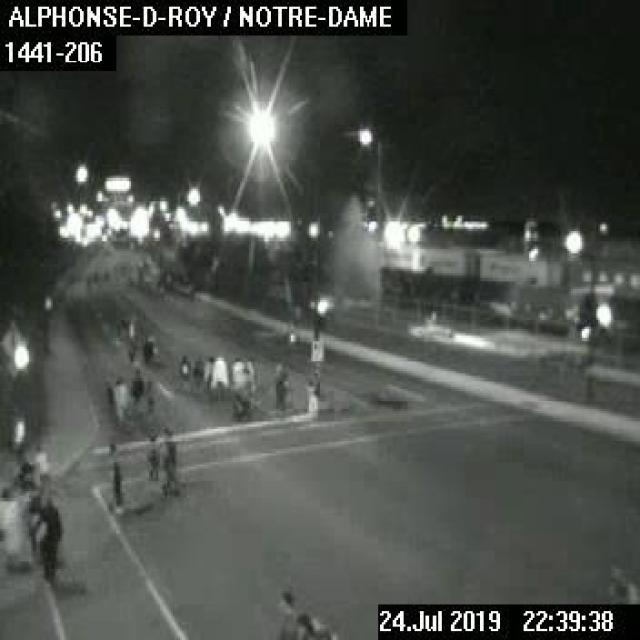pedestrian: (25, 474, 60, 576), (273, 586, 338, 638), (598, 559, 636, 603), (231, 358, 252, 416), (105, 438, 122, 509), (126, 363, 148, 415), (158, 427, 175, 493), (111, 372, 132, 424), (271, 360, 288, 416), (211, 353, 226, 398), (145, 426, 157, 480), (141, 331, 156, 368), (204, 355, 213, 397), (179, 352, 189, 385), (193, 352, 201, 388)
